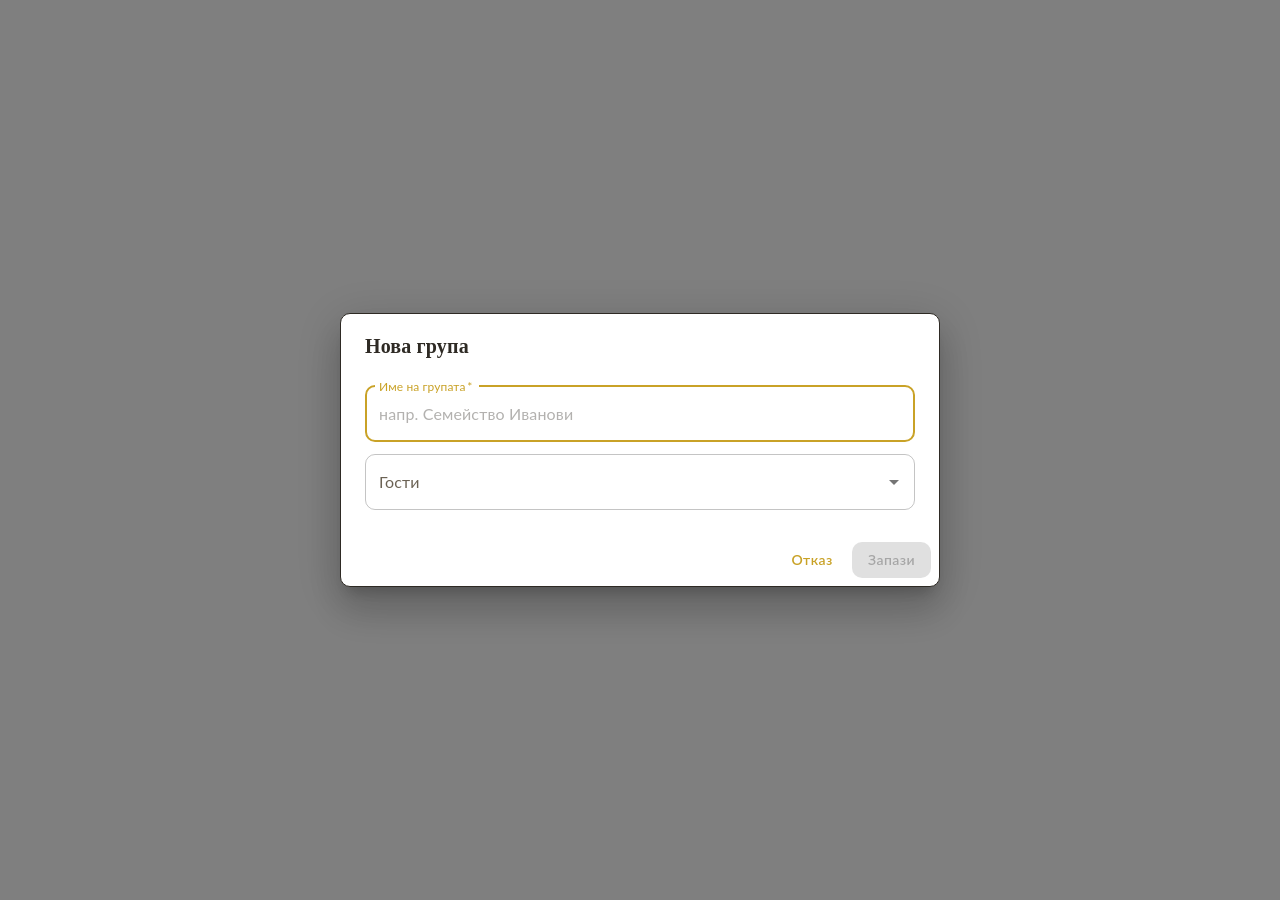
Test case: GroupDialog › marks guests who are already in another group
Click the dropdown labelled "Гости". click: coordinates (625, 482)
box: 374,463 -> 876,501
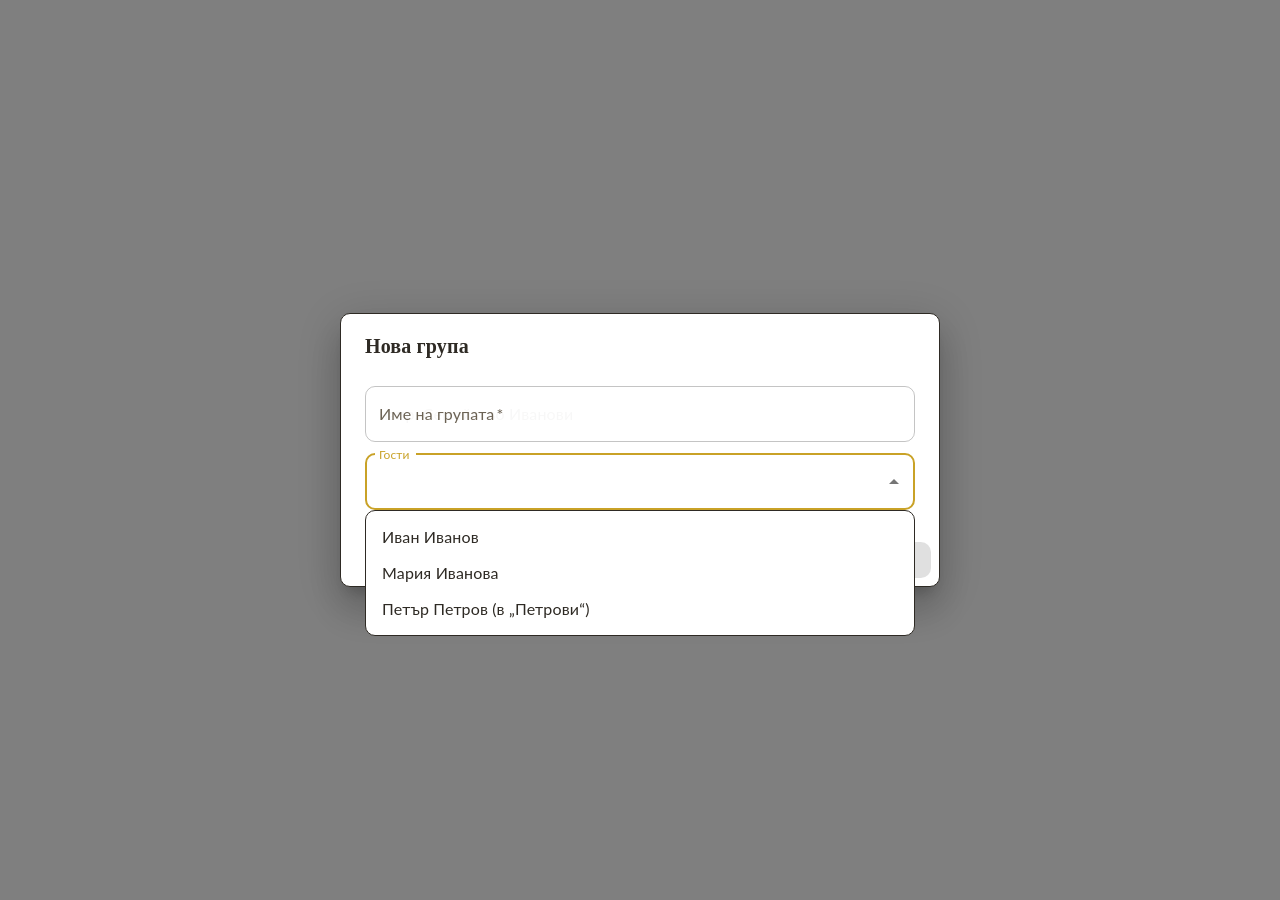
Result: the option "Петър Петров (в „Петрови“)" is shown at 382,599 -> 590,618
Result: the option "Иван Иванов" is shown at 382,527 -> 479,546
